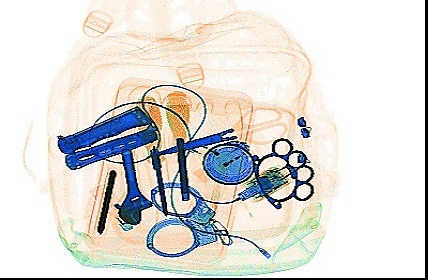handcuffs: (144, 180, 234, 258)
knife: (55, 102, 153, 155), (62, 126, 159, 170)
lighter: (189, 139, 250, 184), (88, 182, 133, 232), (187, 136, 220, 158)
scissors: (155, 104, 287, 156)
